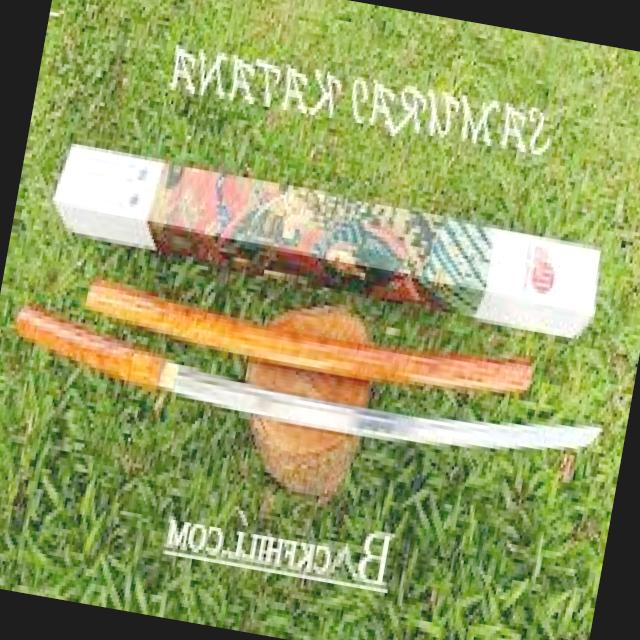long sword: (0, 301, 608, 559)
